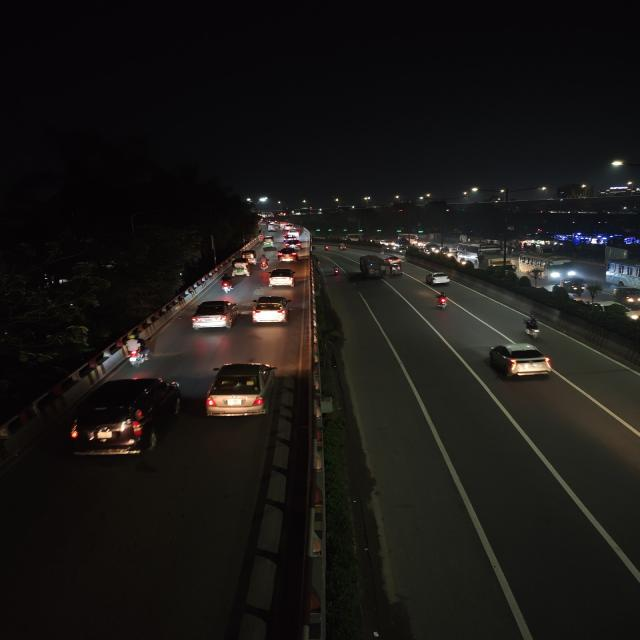bus: (521, 252, 575, 282), (603, 254, 640, 296), (454, 242, 510, 266), (361, 254, 386, 278), (396, 233, 422, 247)
car: (62, 372, 185, 462), (200, 359, 278, 422), (485, 341, 558, 383), (188, 299, 240, 333), (249, 295, 293, 327), (266, 267, 298, 289), (425, 269, 452, 285), (276, 248, 300, 264), (282, 238, 301, 250), (385, 257, 403, 266), (283, 230, 301, 238), (283, 233, 300, 241)
cng: (560, 276, 588, 296), (231, 259, 251, 277), (241, 249, 256, 261), (390, 265, 402, 274)
motorcycle: (117, 335, 155, 369), (519, 315, 546, 341), (430, 290, 452, 312), (218, 276, 237, 296), (330, 264, 342, 278), (259, 256, 269, 270), (323, 244, 332, 252)
truck: (483, 252, 516, 272)
